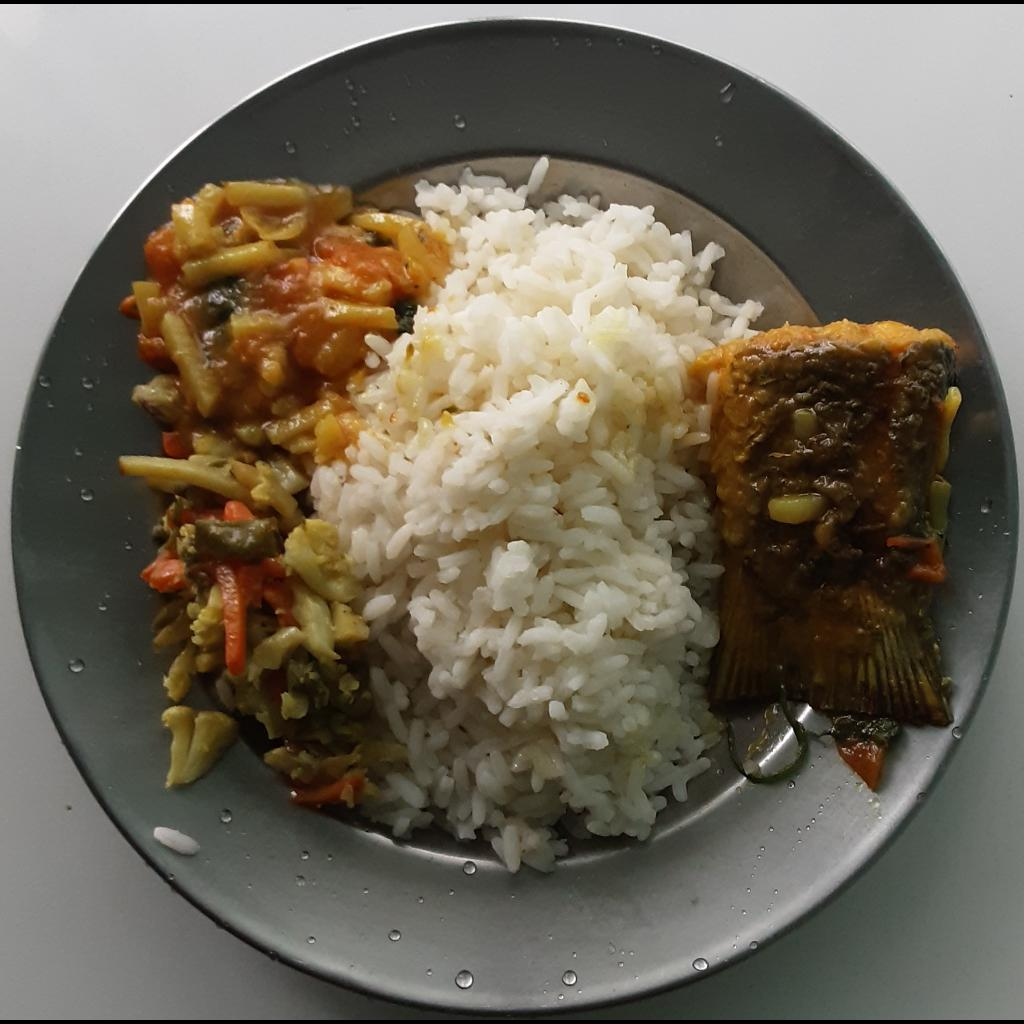carrot: (139, 504, 289, 670)
cauliflower: (152, 507, 389, 800)
fish: (686, 315, 958, 723)
khichuri: (112, 172, 451, 518)
rice: (306, 154, 761, 882)
